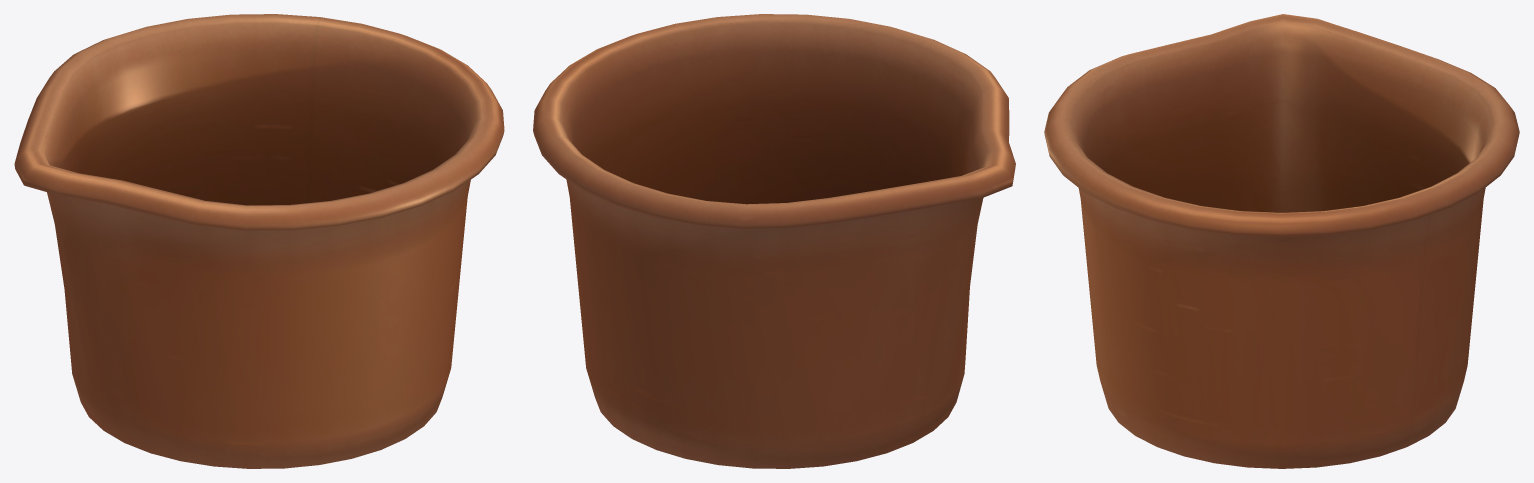
File: Yeast crate.glb
The picture shows the model from 3 angles, left to right: view 1: azimuth 30°, elevation 25°; view 2: azimuth 150°, elevation 25°; view 3: azimuth 270°, elevation 25°; orthographic projection. The views are drawn at different scales.
Parts seen in each view (by area): view 1: Yeast.002; view 2: Yeast.002; view 3: Yeast.002.
Boxes of the visible parts, x1,y1,x2,y2 form: Yeast.002: (14,14,504,468); Yeast.002: (533,14,1015,468); Yeast.002: (1044,14,1519,468).
Bounding box in the file's own units: 0.3909 × 0.2366 × 0.369.
1 material, 1 textured.
